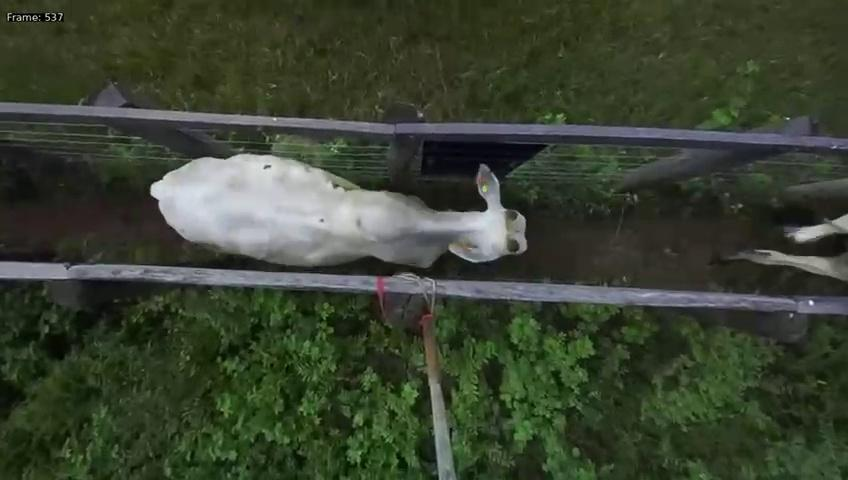cattle: (146, 145, 528, 269)
